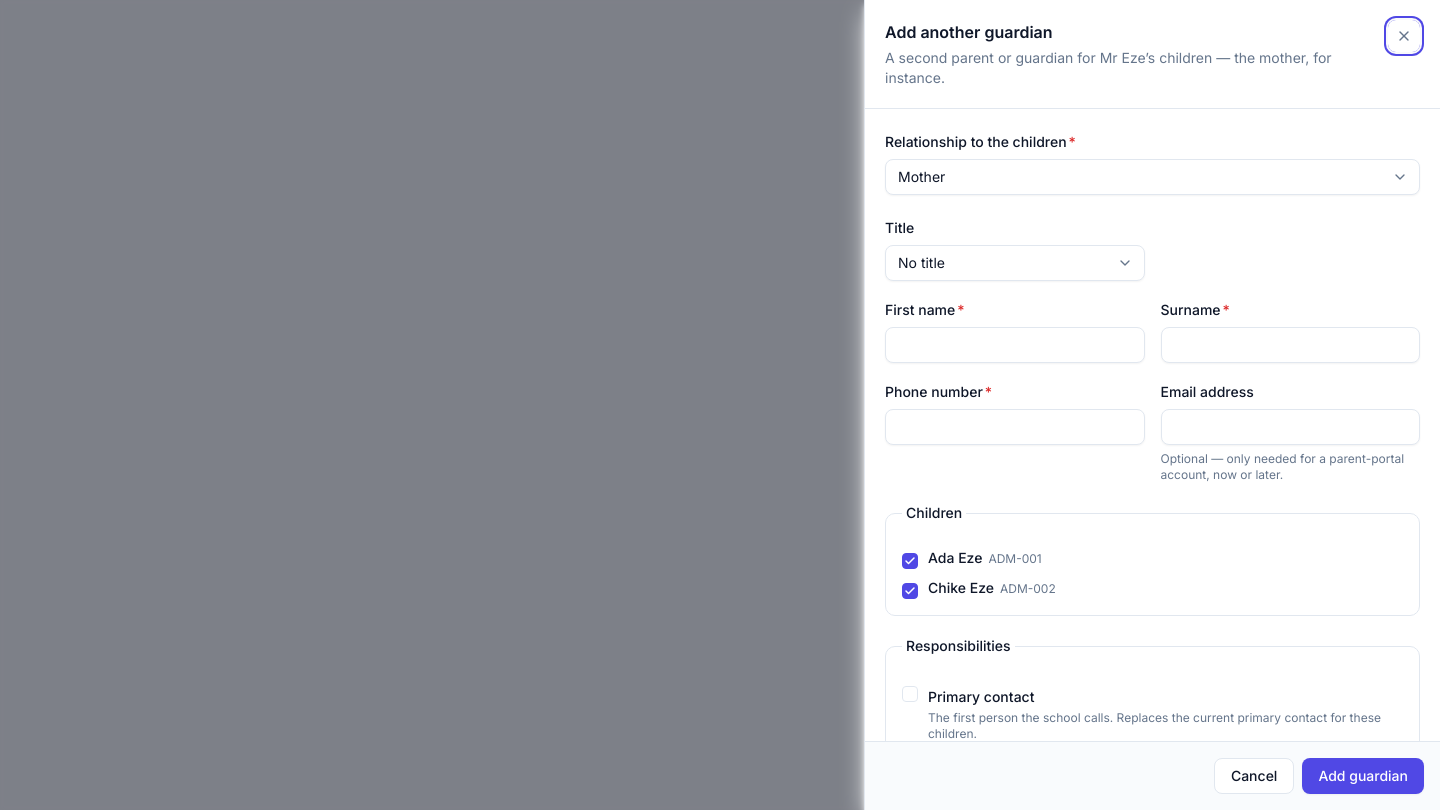
Test: AddCoGuardianSheet › refuses to submit when every child is unticked
The image size is (1440, 810).
Type "Ngozi" into the field labelled "First name*" at (1015, 345), box [885,327,1144,363]
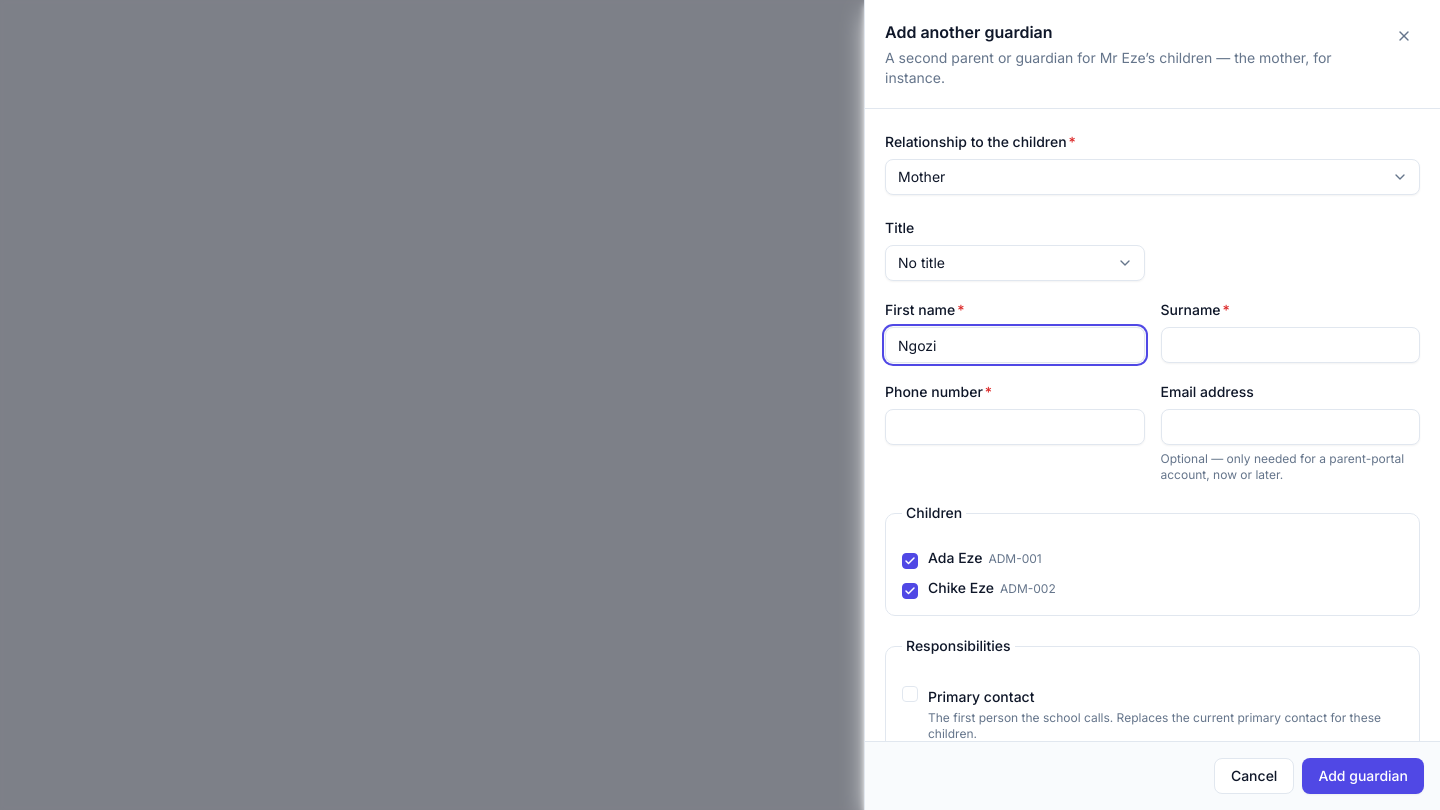
Type "Eze" into the field labelled "Surname*" at (1290, 345), box [1160,327,1420,363]
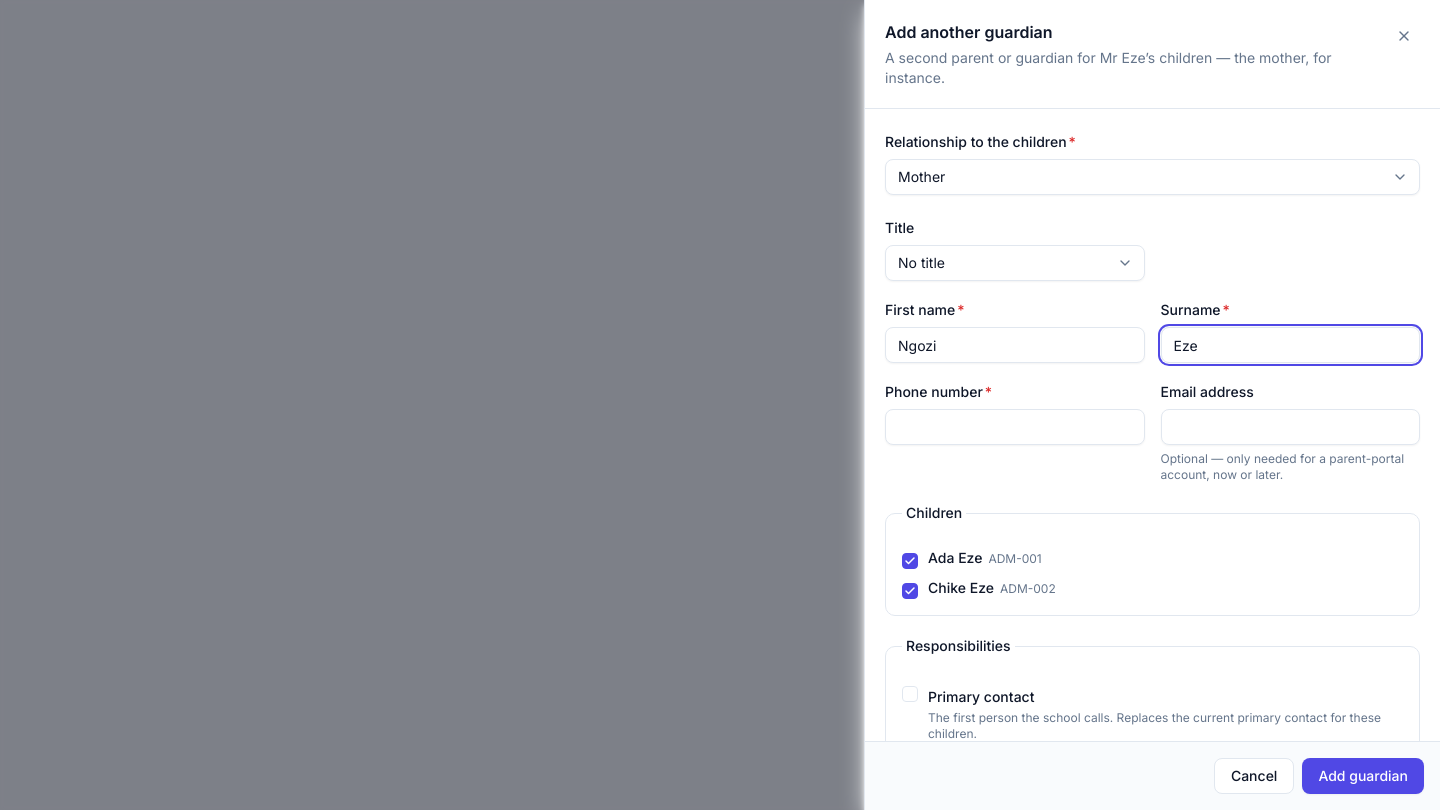
Type "08031234567" into the field labelled "Phone number*" at (1015, 427), box [885,409,1144,445]
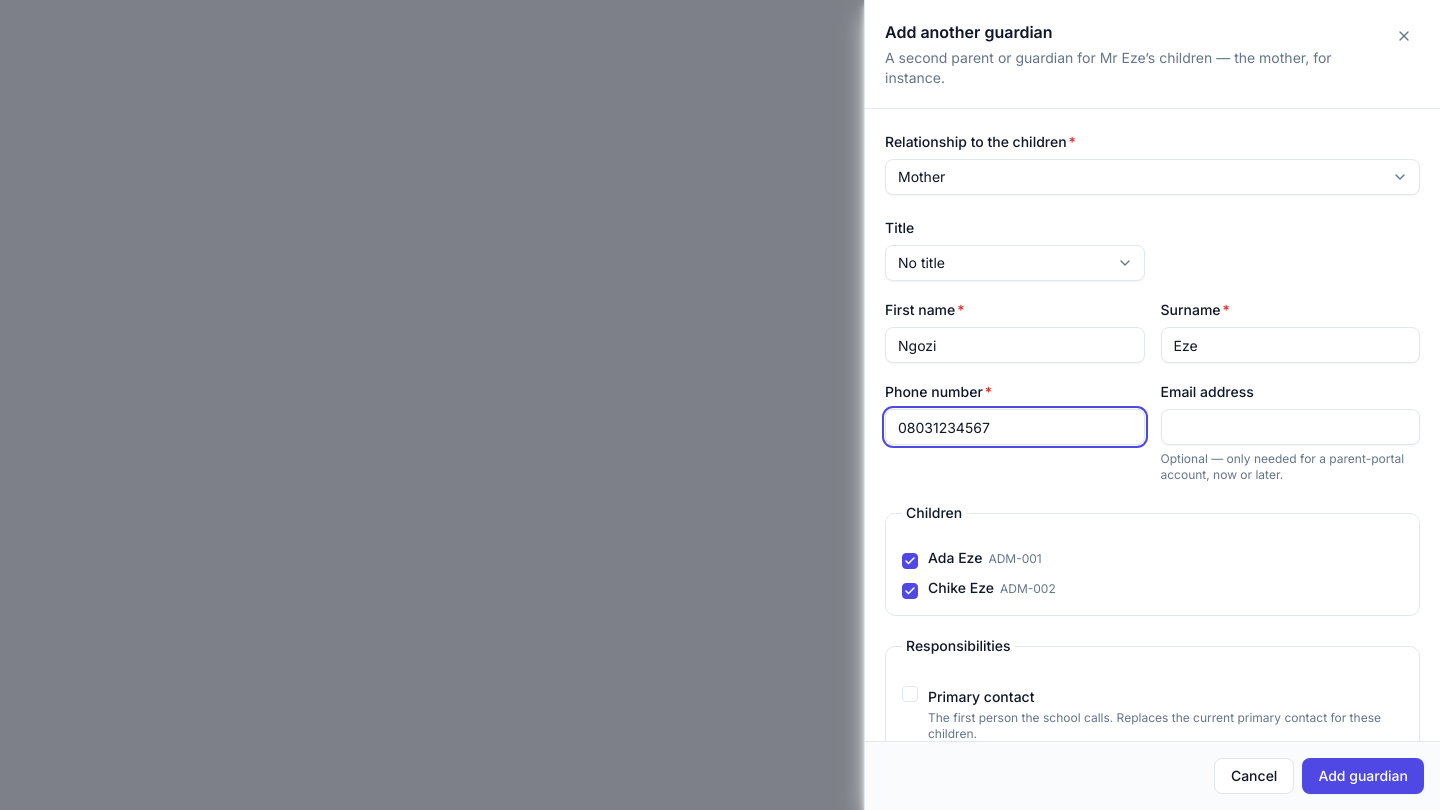
Click the checkbox named "Ada Eze" next to "Ada Eze" at (910, 561), box [902,553,918,569]
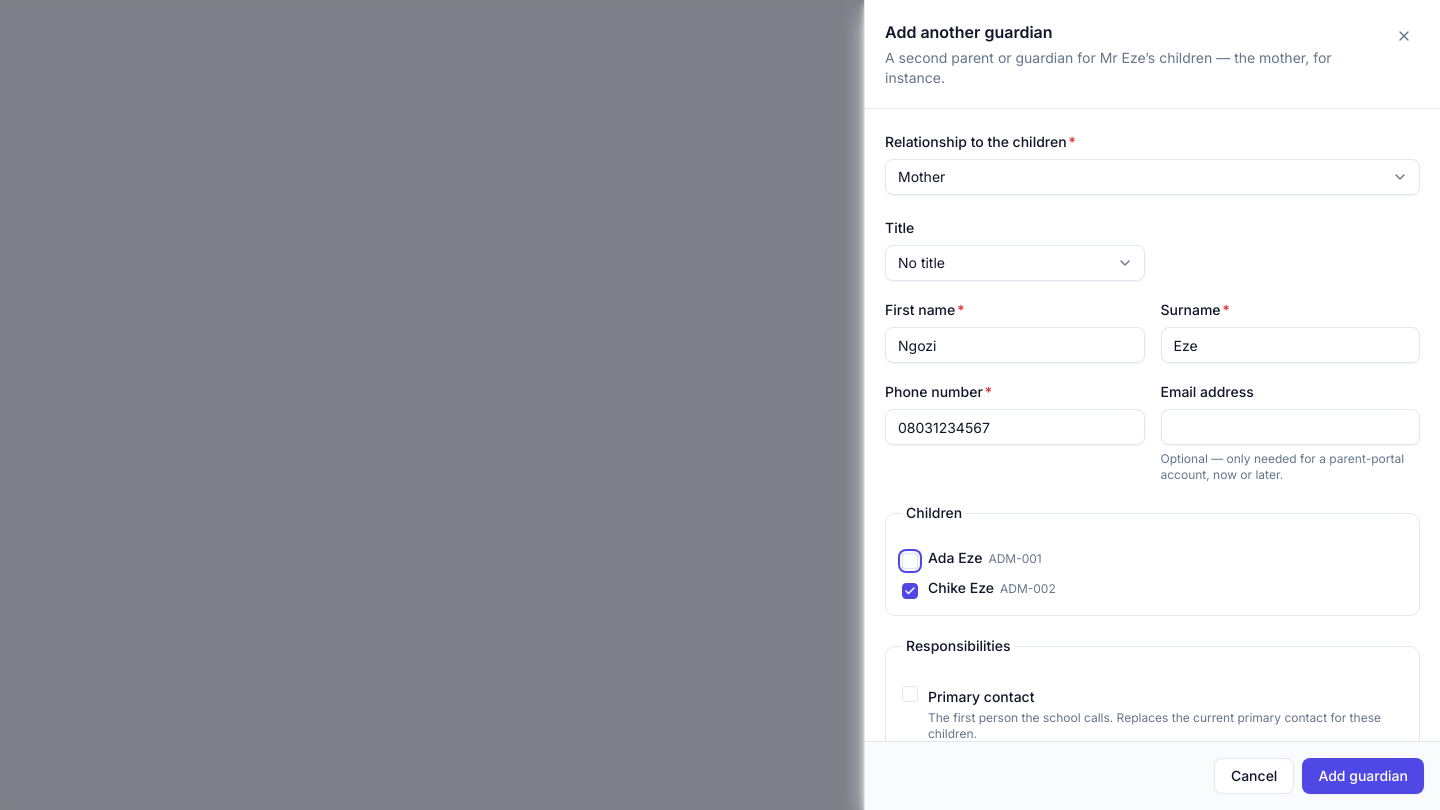
Click the checkbox named "Chike Eze" next to "Chike Eze" at (910, 591), box [902,583,918,599]
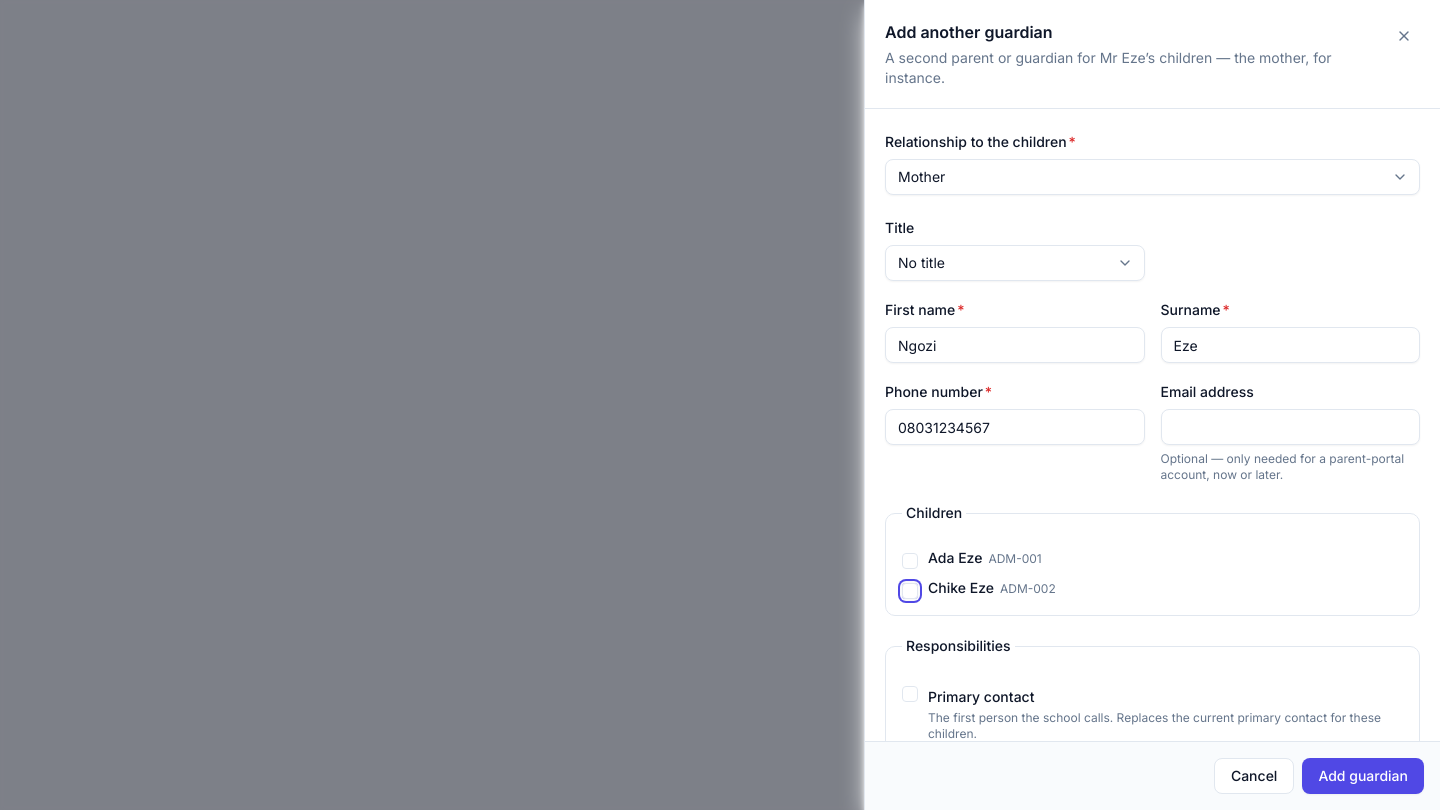
Click the button "Add guardian" at (1363, 776), box [1302,758,1424,794]
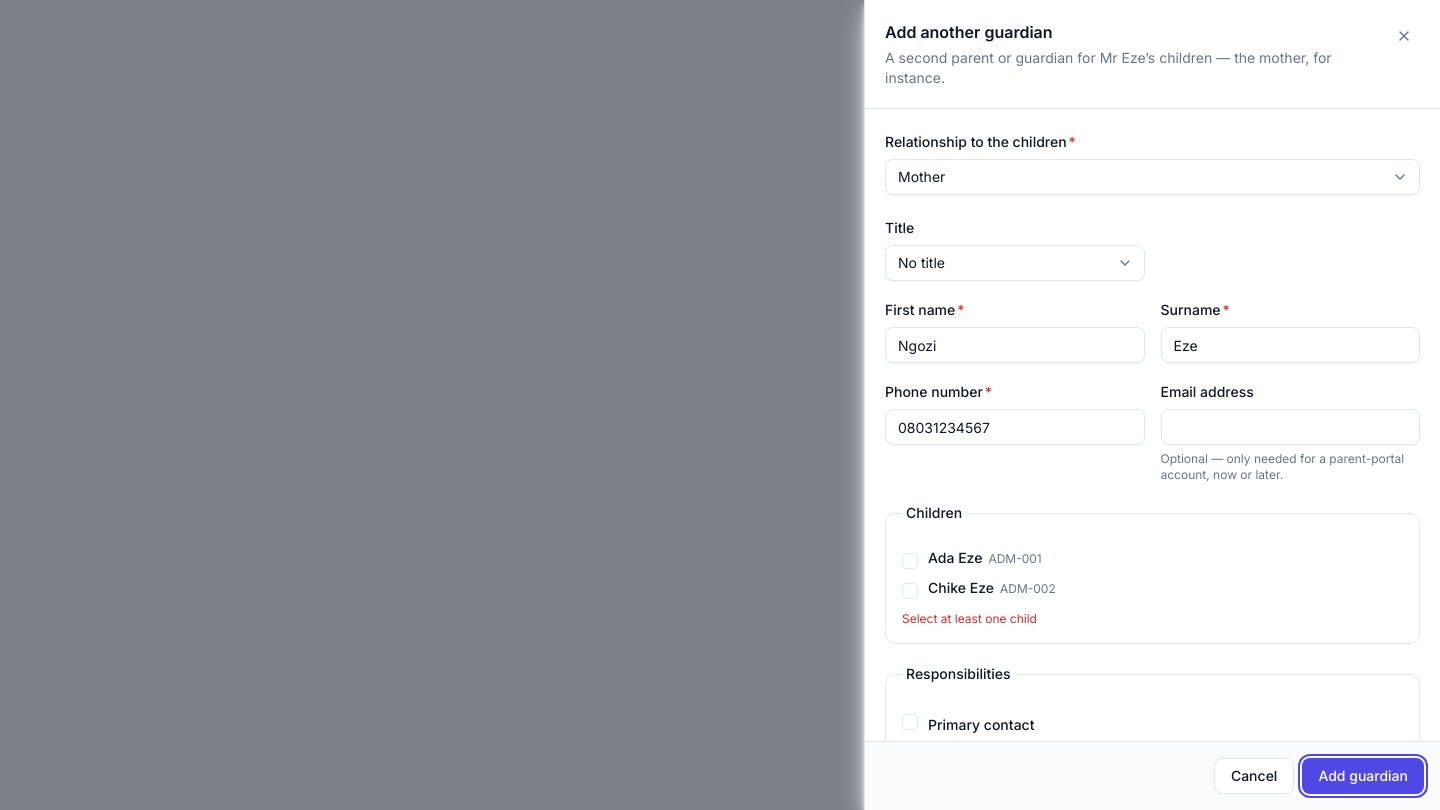
Expected: the text "Select at least one child" is shown, [902,611,1037,626]
